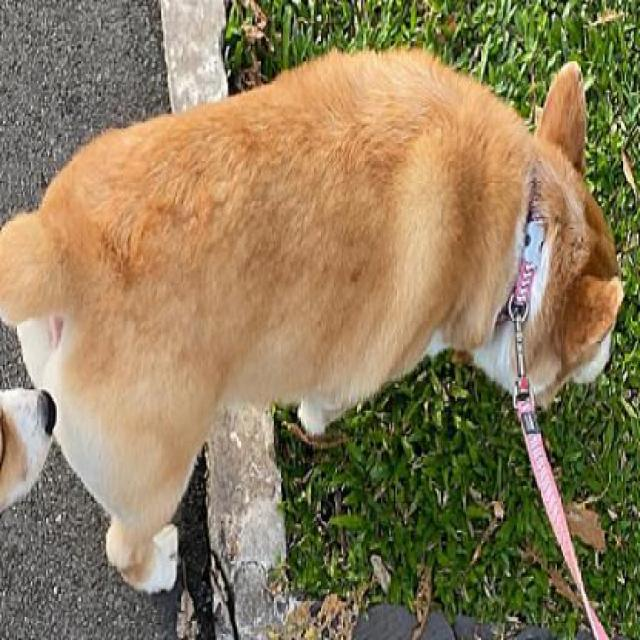Dog: (3, 41, 625, 598)
